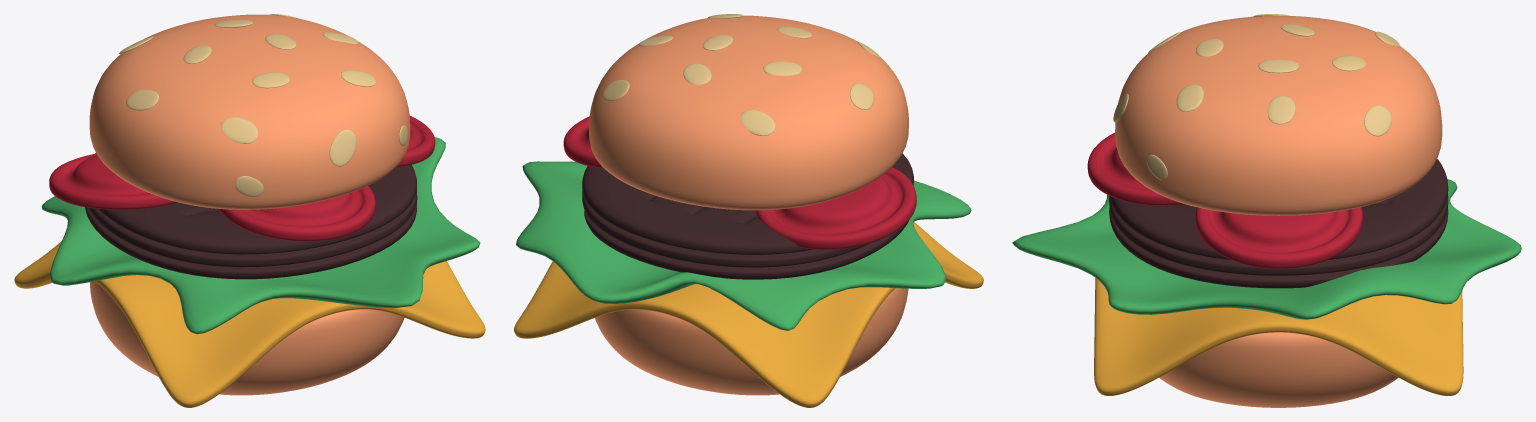
File: burger-fun-loading-animated-3d-icon-361962709974.glb
3 views of the same model, side by side, from view 1: azimuth 30°, elevation 25°; view 2: azimuth 150°, elevation 25°; view 3: azimuth 270°, elevation 25° (orthographic). The views are drawn at different scales.
Parts seen in each view (by area): view 1: Top Bread, Lettuce, Cheese, Cube, Down Bread, Sesame Seed, Tomato Slice.004, Tomato Slice.003, Tomato Slice.002; view 2: Top Bread, Lettuce, Cheese, Cube, Down Bread, Tomato Slice.003, Sesame Seed, Tomato Slice.002; view 3: Top Bread, Cheese, Lettuce, Cube, Down Bread, Tomato Slice.002, Sesame Seed, Tomato Slice.004.
Part boxes in pixels (<box>): Top Bread: <box>89,14,410,209</box>; Lettuce: <box>41,137,480,334</box>; Cheese: <box>14,241,485,407</box>; Cube: <box>85,153,417,279</box>; Down Bread: <box>90,281,404,395</box>; Sesame Seed: <box>119,14,407,196</box>; Tomato Slice.004: <box>218,185,375,241</box>; Tomato Slice.003: <box>49,153,177,209</box>; Tomato Slice.002: <box>396,115,435,166</box>; Top Bread: <box>589,15,908,210</box>; Lettuce: <box>516,161,971,330</box>; Cheese: <box>514,222,983,407</box>; Cube: <box>582,153,913,279</box>; Down Bread: <box>595,288,908,395</box>; Tomato Slice.003: <box>756,167,916,249</box>; Sesame Seed: <box>602,14,880,135</box>; Tomato Slice.002: <box>563,116,603,168</box>; Top Bread: <box>1115,15,1442,215</box>; Cheese: <box>1094,278,1463,395</box>; Lettuce: <box>1012,179,1521,319</box>; Cube: <box>1109,159,1448,288</box>; Down Bread: <box>1159,332,1398,407</box>; Tomato Slice.002: <box>1195,207,1362,268</box>; Sesame Seed: <box>1113,14,1399,180</box>; Tomato Slice.004: <box>1087,132,1183,205</box>.
Bounding box in the file's own units: 2.66 × 1.97 × 2.79.
